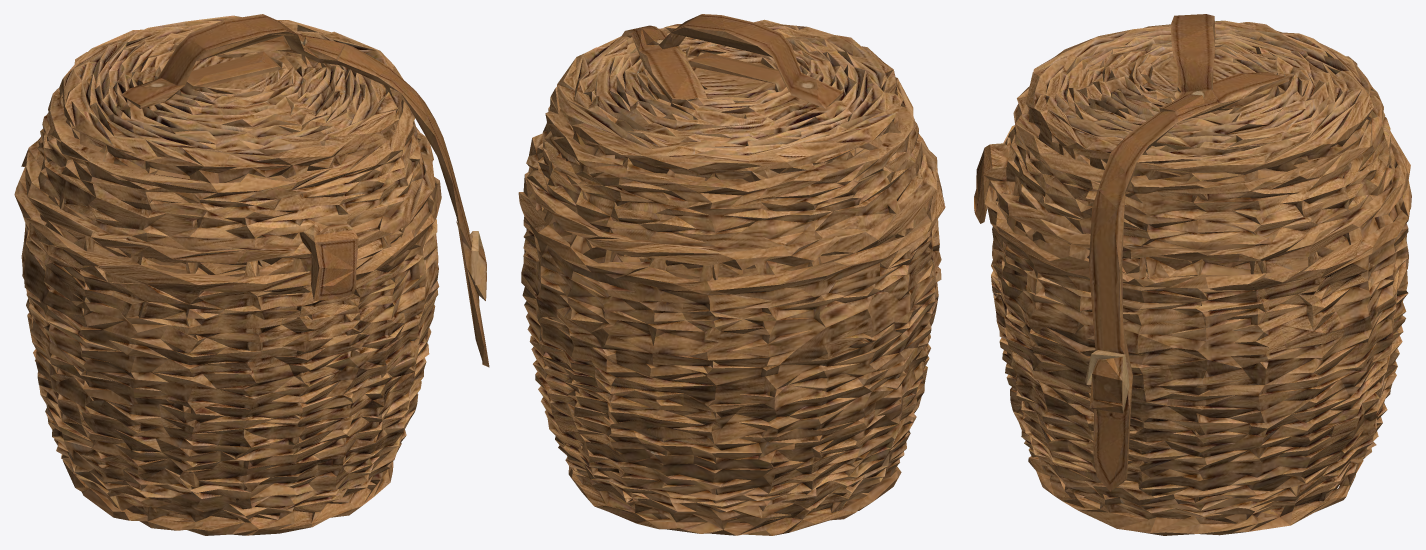
The model's file is creel.glb.
3 views of the same model, side by side, from view 1: azimuth 30°, elevation 25°; view 2: azimuth 150°, elevation 25°; view 3: azimuth 270°, elevation 25° (orthographic).
Size of the model in its own units: 0.5 by 0.5278 by 0.4704.
1 material, 1 textured.
